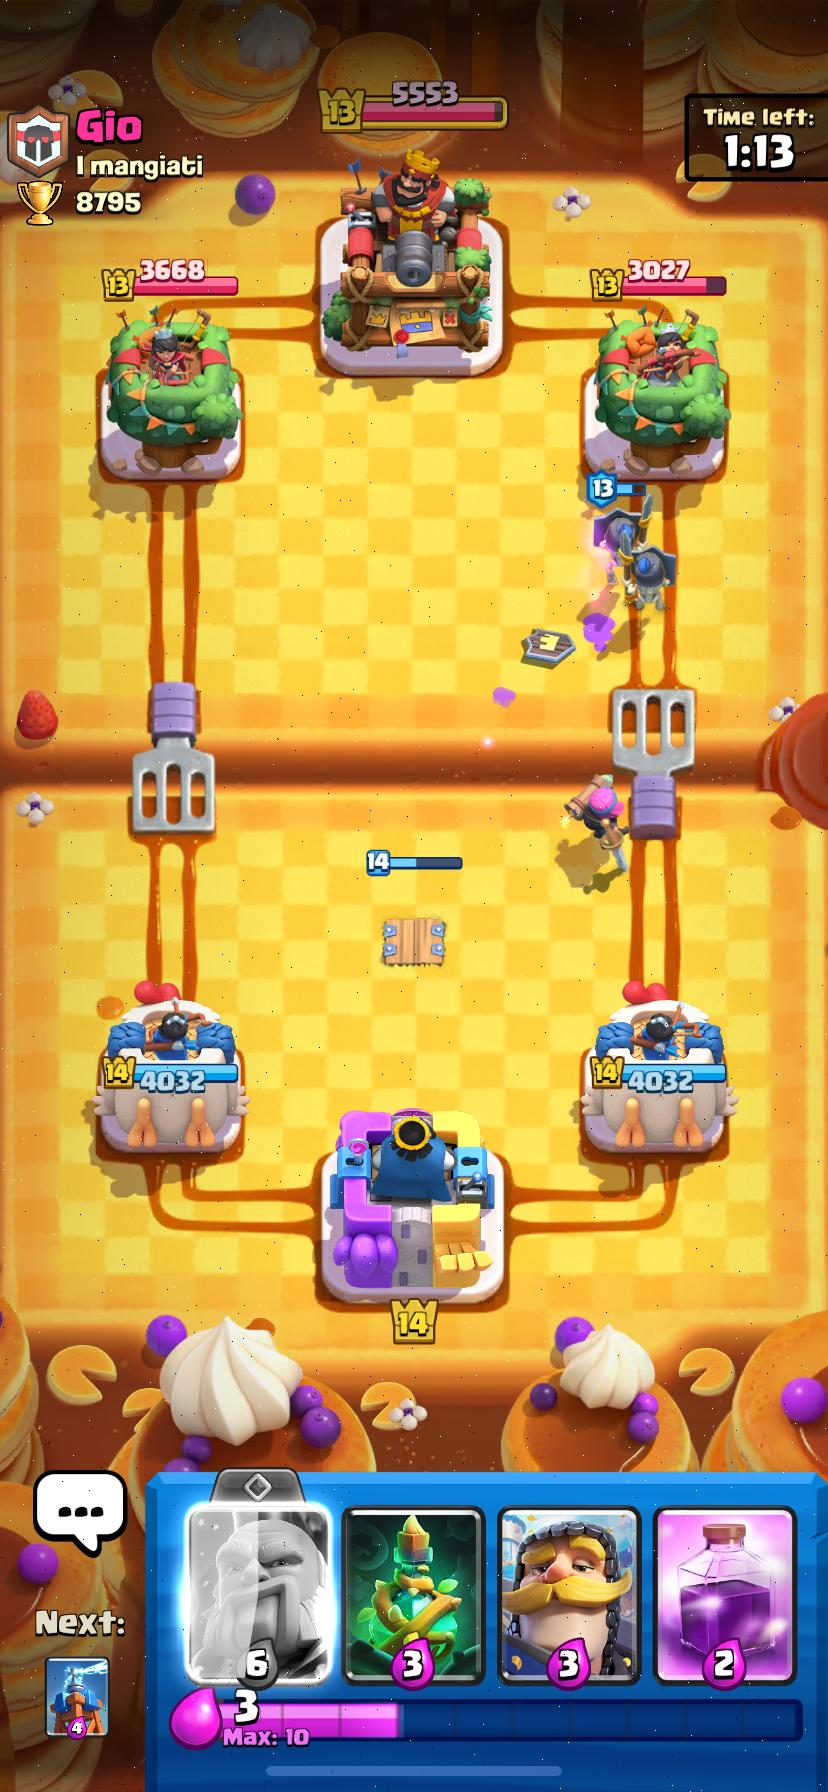EKingTower: (321, 149, 501, 374)
EnemyPrincessTower: (594, 309, 729, 475), (106, 310, 241, 453)
OFirecrack: (564, 774, 627, 850)
OGuard: (619, 545, 676, 611), (594, 507, 637, 586)
OTesla: (383, 917, 445, 966)
OwnKingTower: (321, 1109, 503, 1303)
OwnPrincessTower: (580, 982, 737, 1153), (93, 983, 248, 1152)
